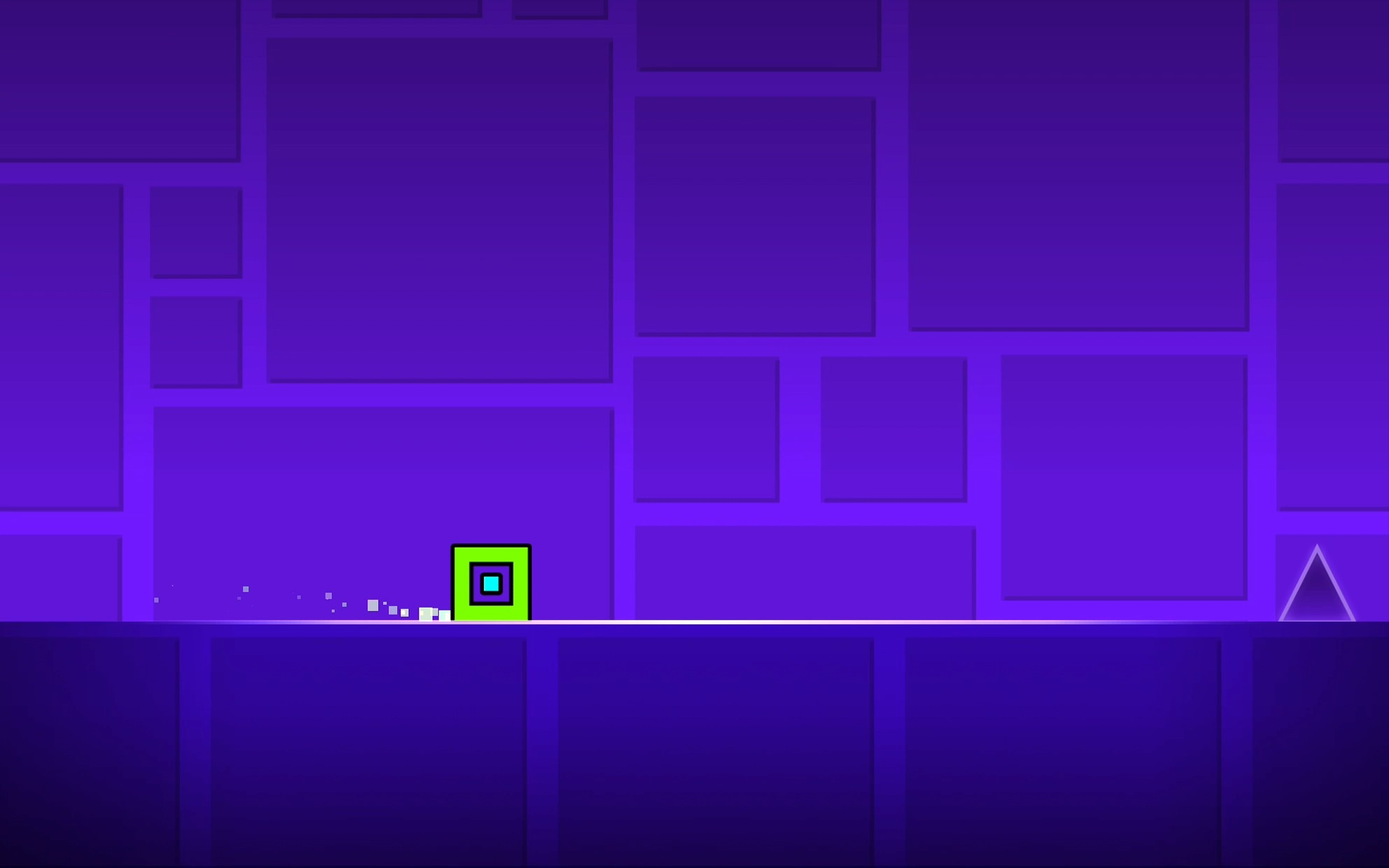Player: (450, 545, 532, 619)
Spike: (1280, 547, 1355, 620)
